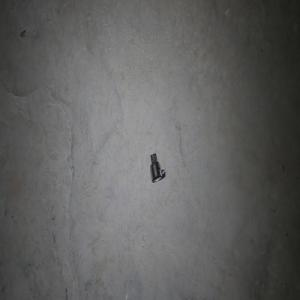MetalPart: (149, 152, 165, 182)
